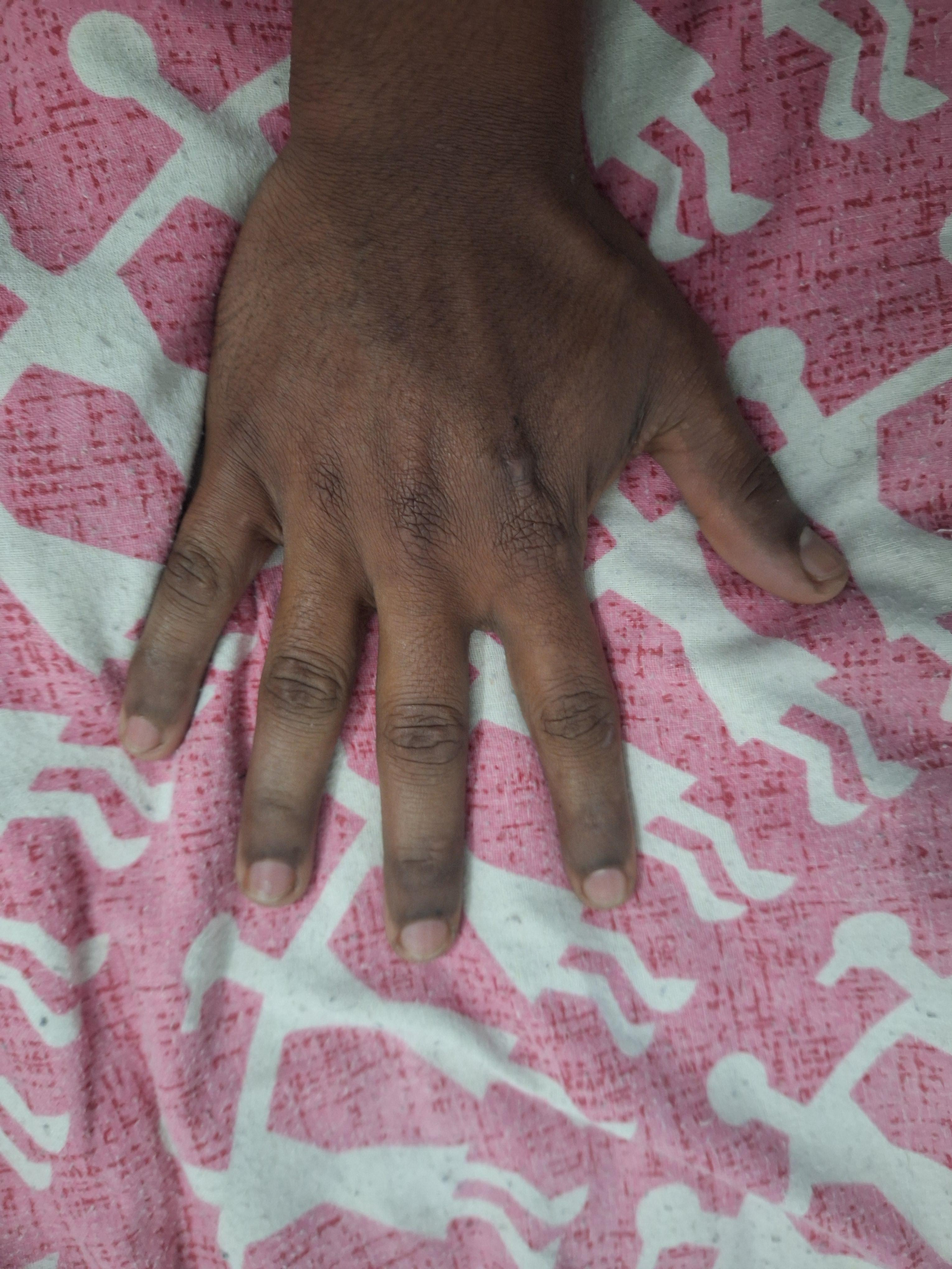Fingernail: (246, 860, 295, 904), (399, 919, 448, 961), (583, 869, 627, 909), (125, 716, 161, 754)
